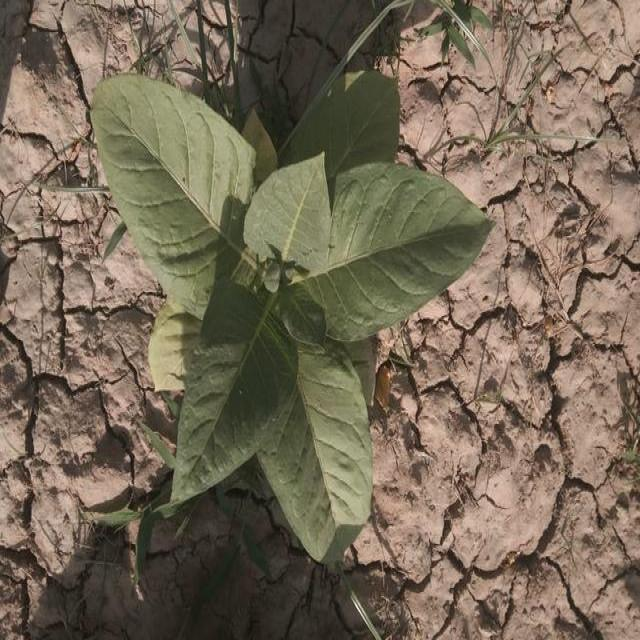crop: (90, 68, 483, 557)
